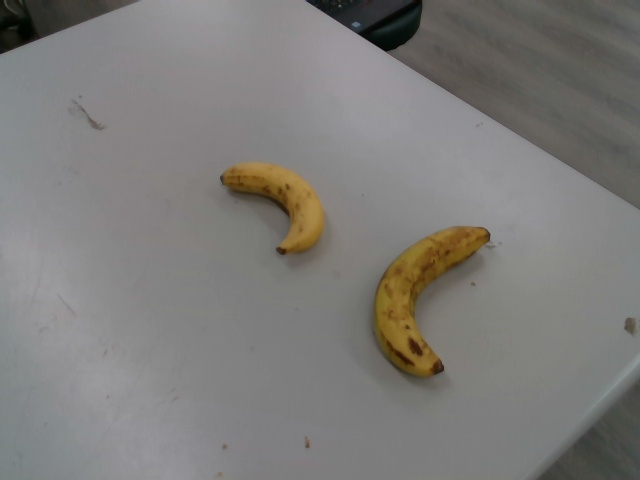banana: (369, 224, 489, 379), (218, 160, 328, 255)
